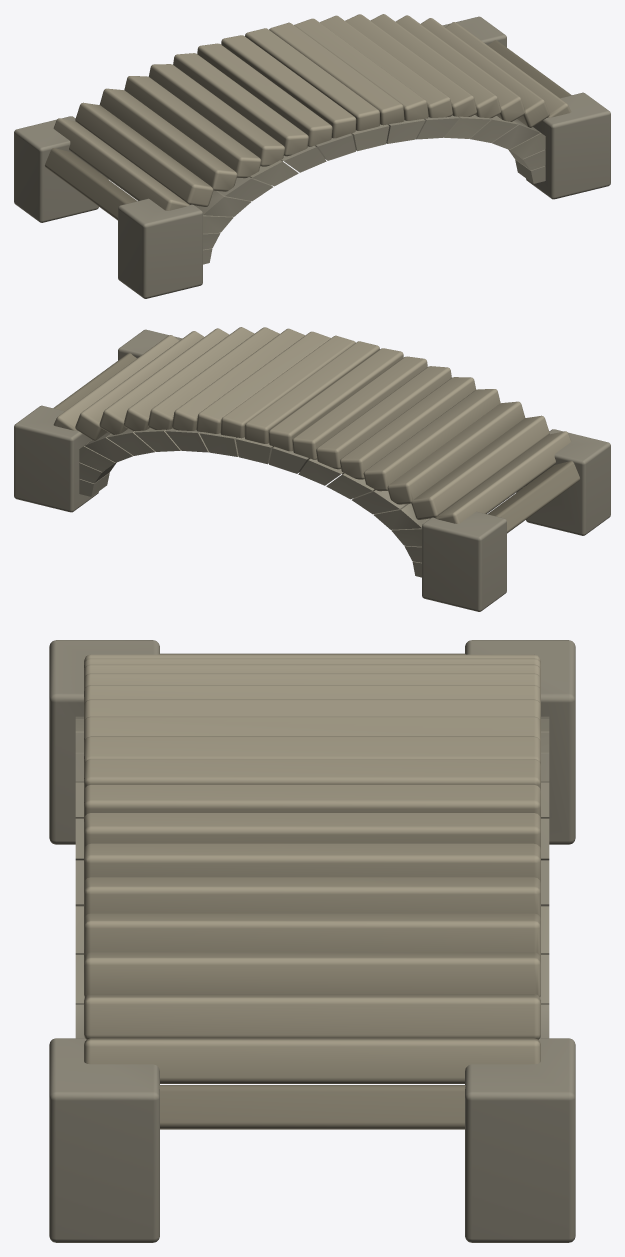
Rendered from fw_bridge_stone.hi.glb.
The picture shows the model from 3 angles, top to bottom: view 1: azimuth 30°, elevation 25°; view 2: azimuth 150°, elevation 25°; view 3: azimuth 270°, elevation 25°; orthographic projection. The views are drawn at different scales.
Parts seen in each view (by area): view 1: body; view 2: body; view 3: body.
Part boxes in pixels (left/top/right/bottom): body: left=14, top=14, right=610, bottom=298; body: left=14, top=327, right=610, bottom=611; body: left=49, top=640, right=575, bottom=1242.
Size of the model in its own units: 3.9 by 0.99 by 1.9.
